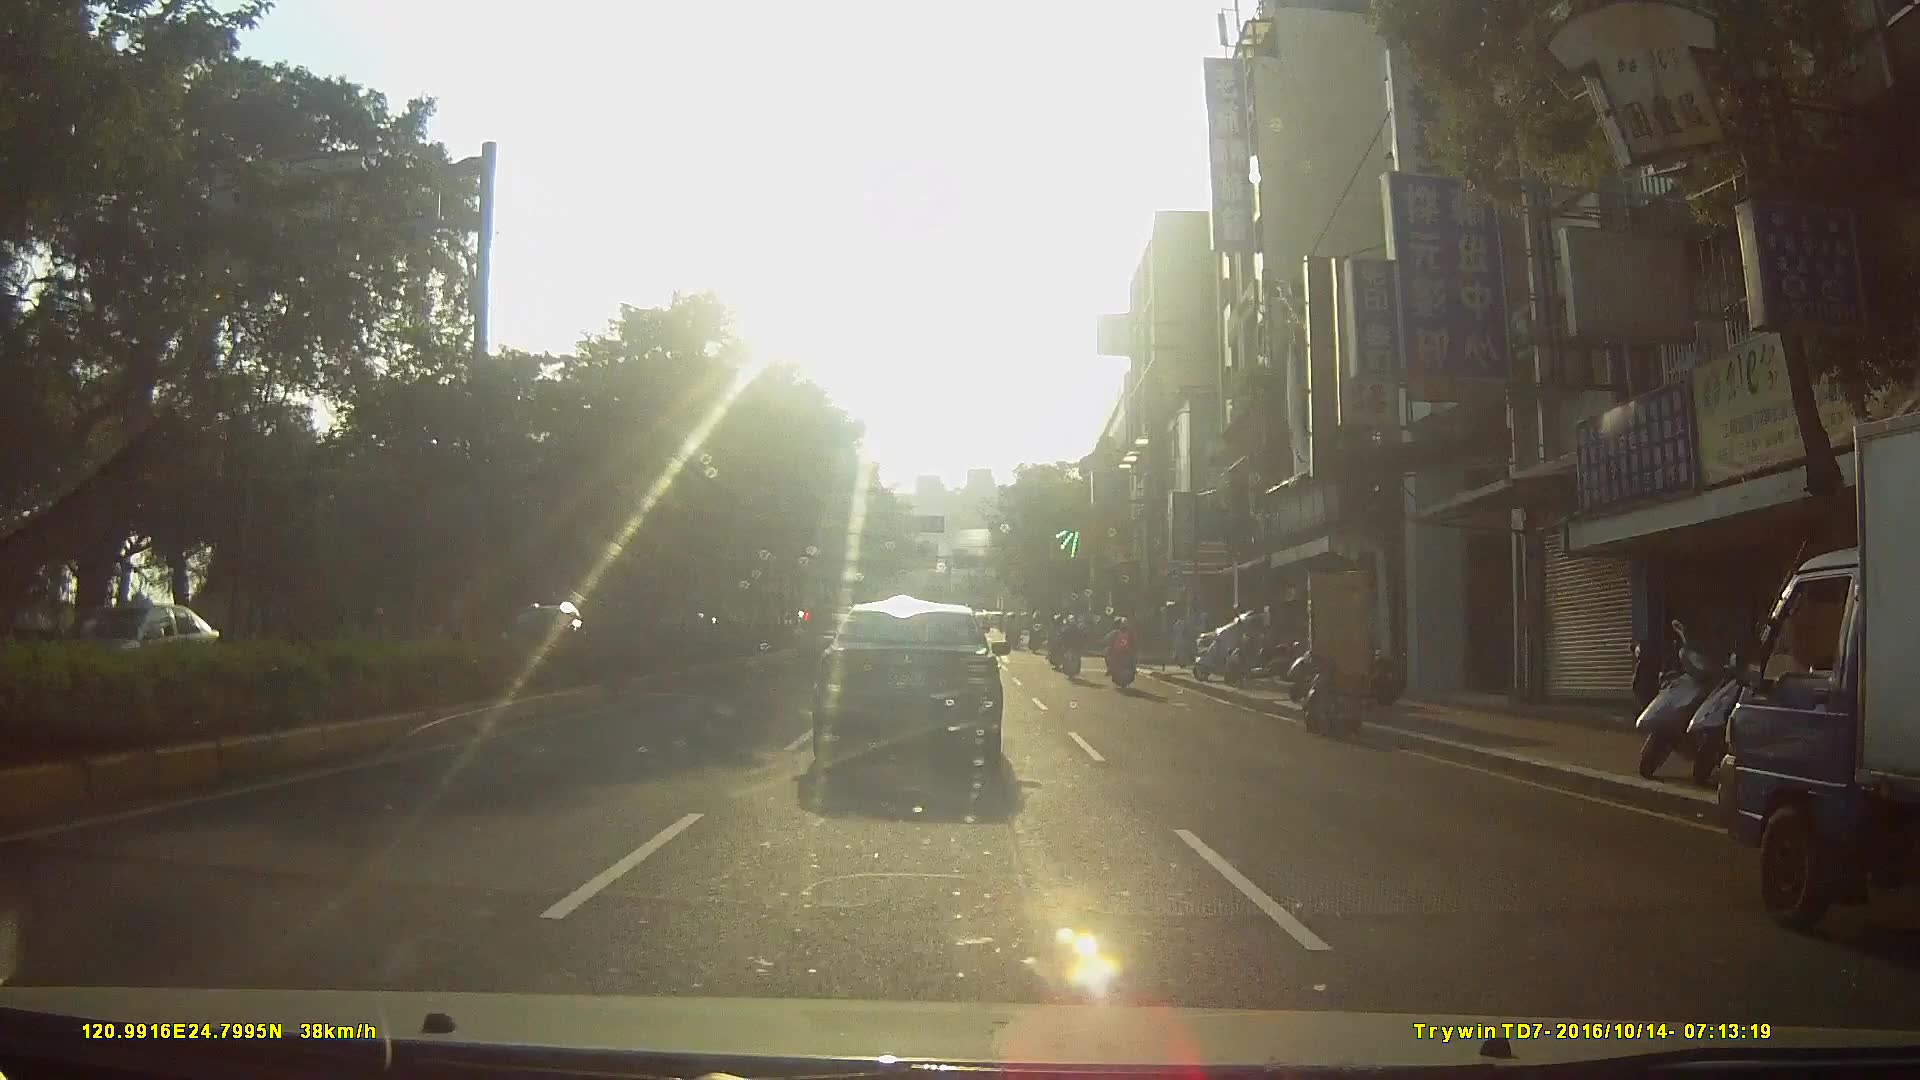rider: (1106, 617, 1140, 692), (1060, 612, 1086, 679), (1048, 611, 1070, 670)
vehicle: (1708, 422, 1920, 947), (809, 597, 1016, 782), (48, 599, 236, 694)
